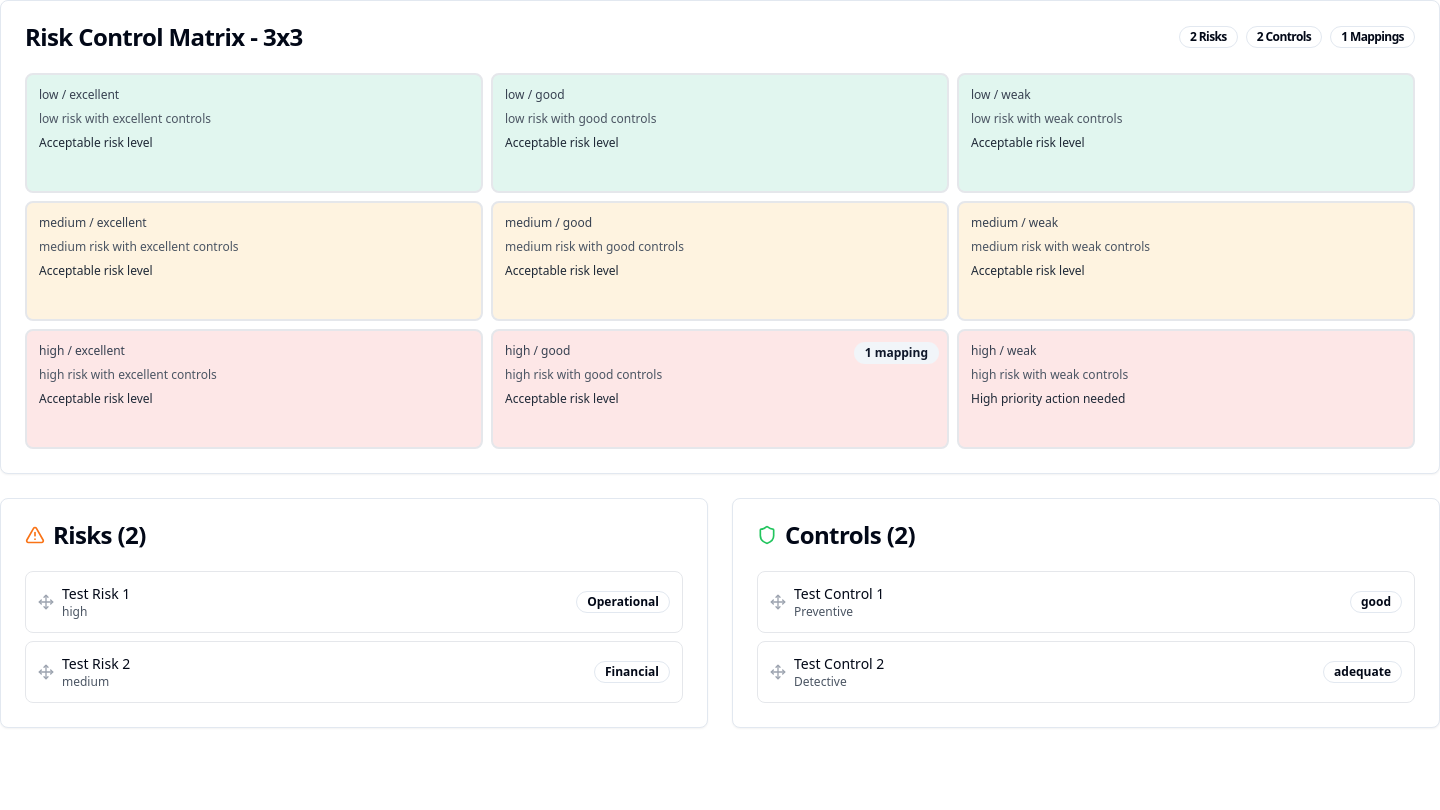
Test: DragDropMatrix › shows cell information when selected
// Select a cell
Click the button with aria-label "Matrix cell low risk, excellent controls". click: coordinates (94, 94)
box: left=25, top=73, right=483, bottom=193
(page scrolled)
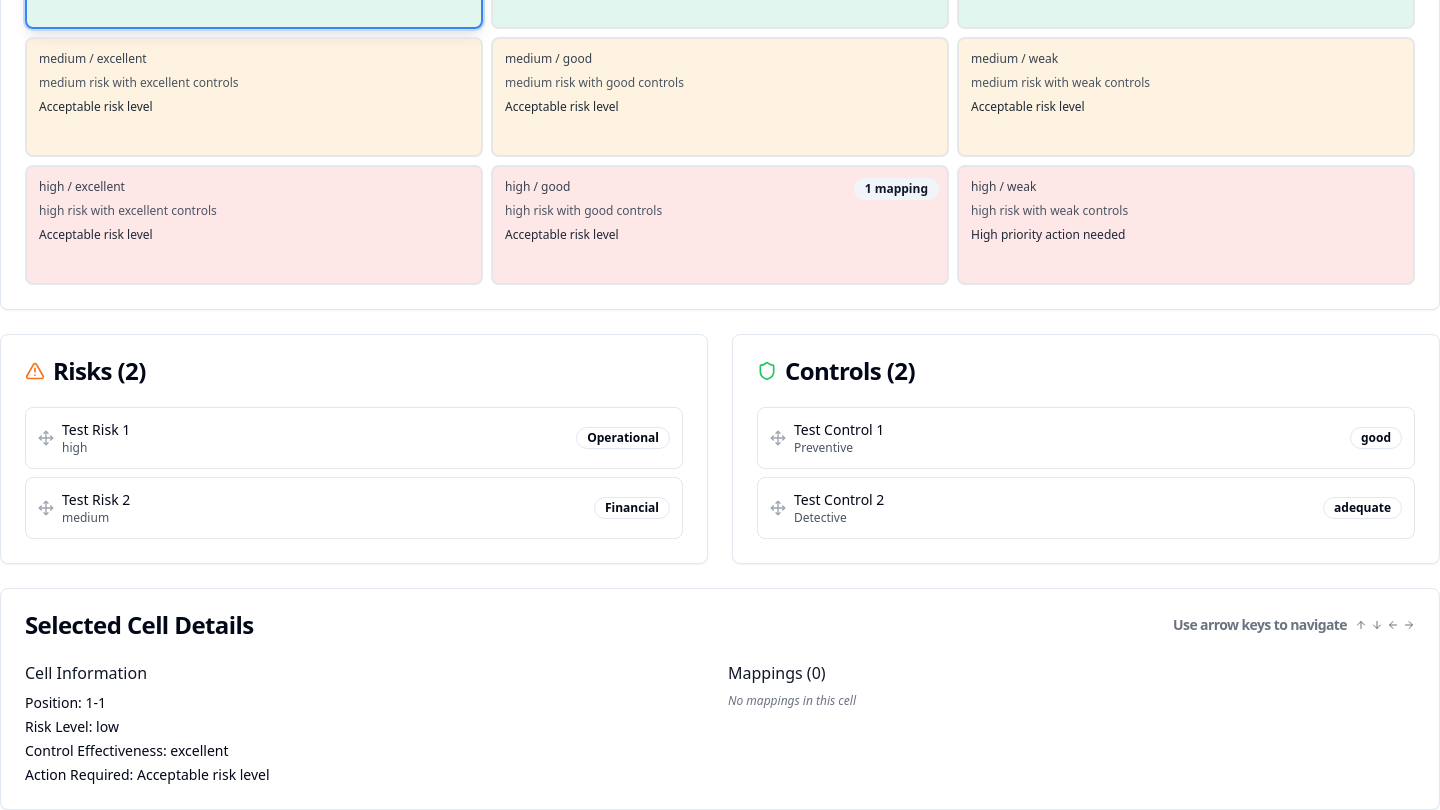
Expected: the heading "Cell Information" is shown, left=25, top=662, right=147, bottom=684
Expected: the text "Position:" is shown, left=25, top=693, right=82, bottom=712
Expected: the text "Risk Level:" is shown, left=25, top=717, right=92, bottom=736
